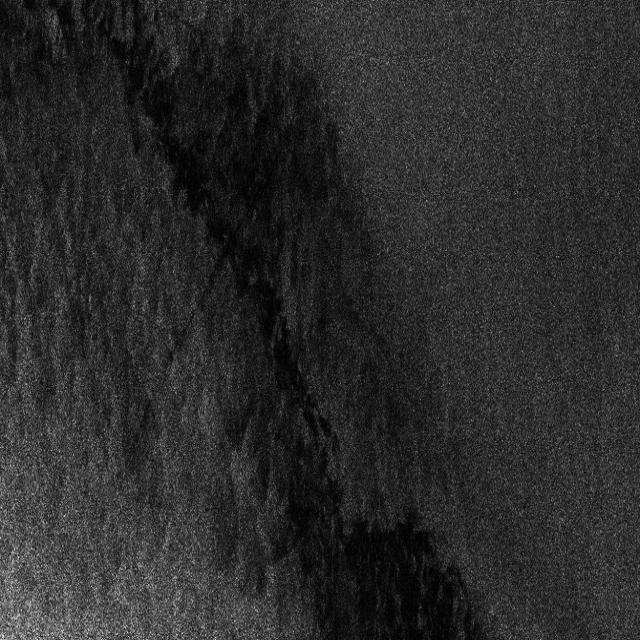look-alike: (243, 293, 482, 640), (64, 2, 262, 140)
oil-spill: (172, 122, 286, 357)
